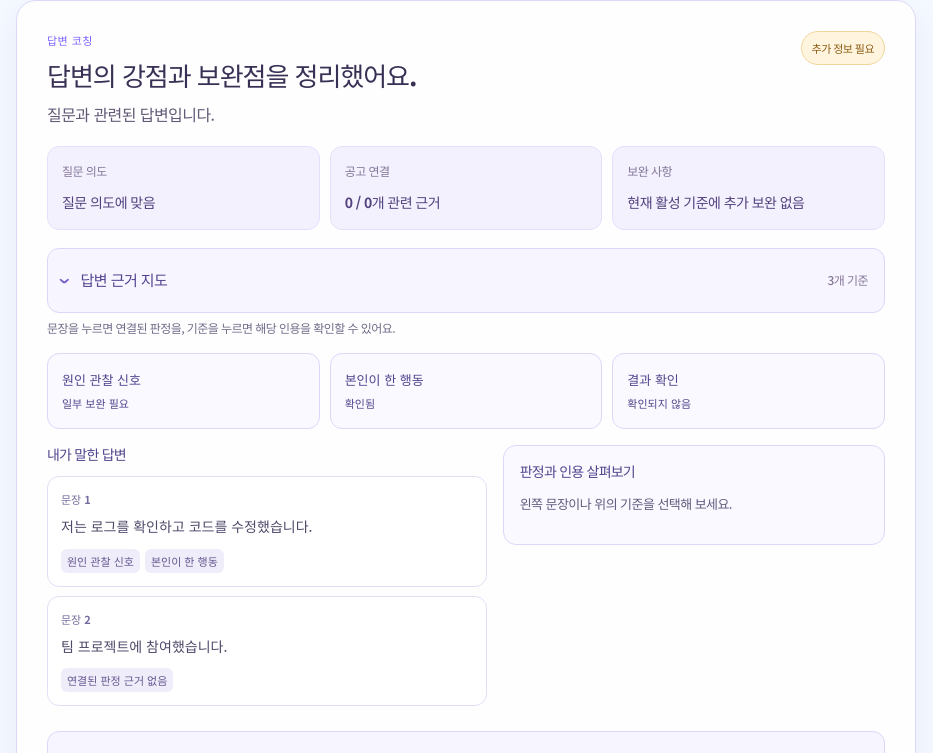
답변 근거 지도 › 근거 지도는 처음 접혀 있고 펼침 후 선택 기능을 유지한다
Expected: the heading "답변 근거 지도 3개 기준" is shown, x1=47 y1=248 x2=885 y2=312
Click the button "결과 확인 확인되지 않음". click: (653, 379)
box: x1=612 y1=353 x2=885 y2=429
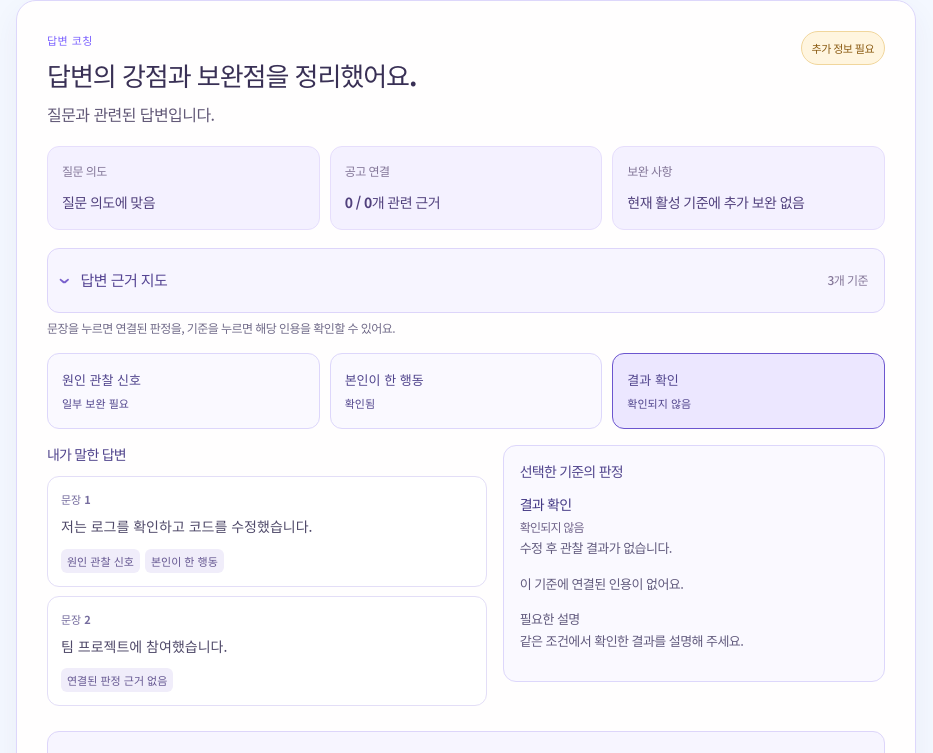
Expected: the element with class "answer-evidence-map__detail" shows "같은 조건에서 확인한 결과", x1=520 y1=631 x2=743 y2=650
